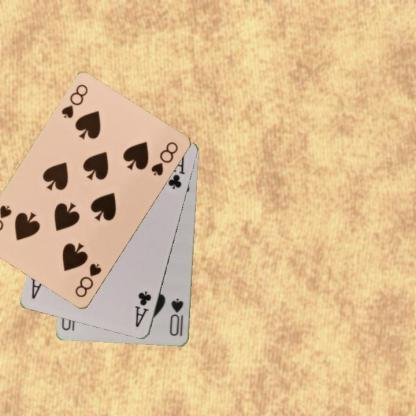10s: (167, 296, 185, 338)
8s: (58, 82, 90, 121), (72, 261, 104, 299)
Ac: (132, 289, 153, 329)
